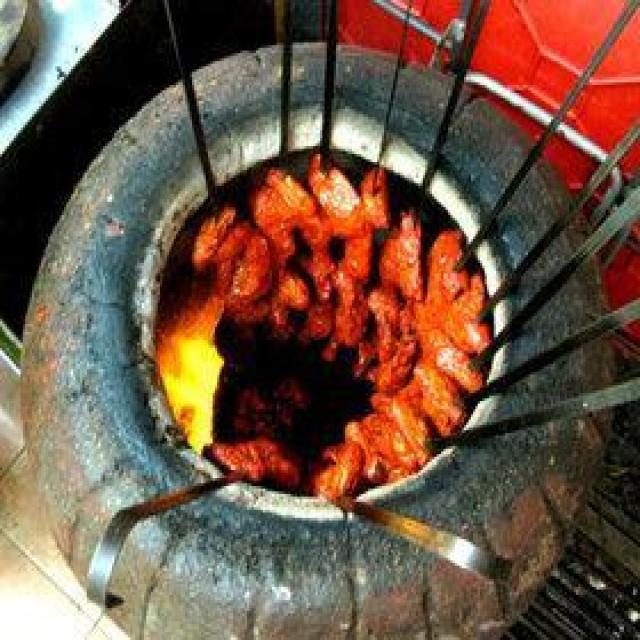fire: (161, 339, 224, 455)
